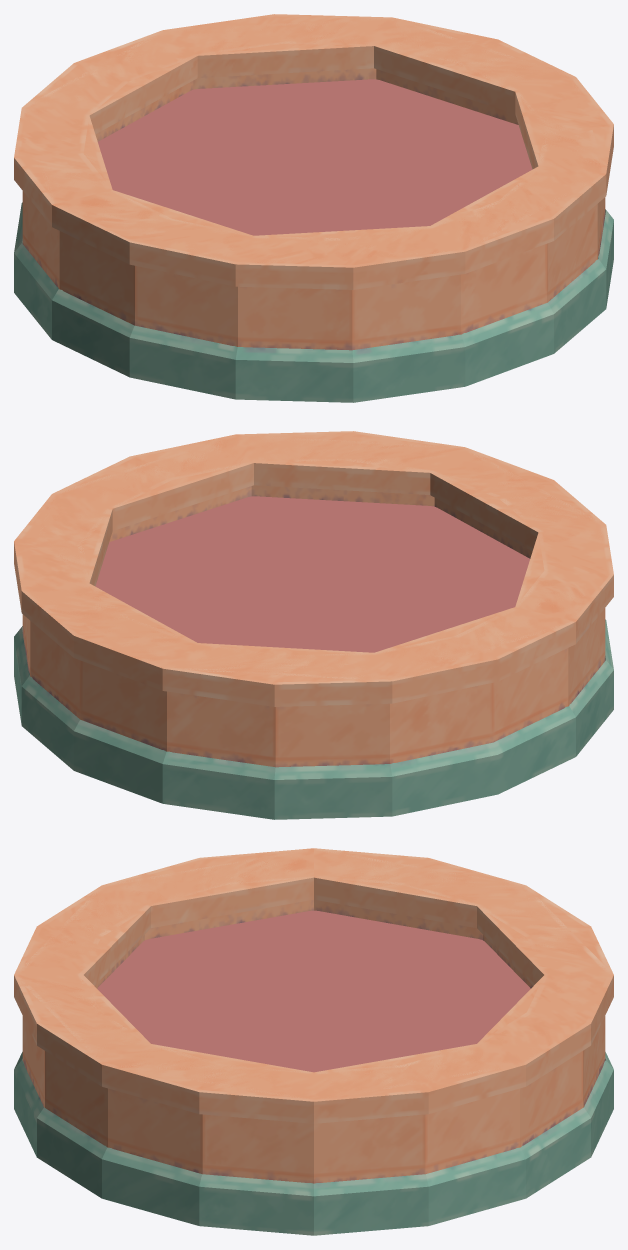
File: vat.bundle.fbx
The picture shows the model from 3 angles, top to bottom: view 1: azimuth 30°, elevation 25°; view 2: azimuth 150°, elevation 25°; view 3: azimuth 270°, elevation 25°; orthographic projection.
Visible parts, largest first — view 1: vat, vat_low, vat_s00, vat_s04, vat_s07, vat_s01, vat_s06, vat_s05; view 2: vat, vat_low, vat_s06, vat_s07, vat_s05, vat_s03, vat_s04, vat_s01; view 3: vat, vat_low, vat_s00, vat_s07, vat_s06, vat_s03, vat_s04, vat_s01, vat_s05.
Boxes of the visible parts, x1=… form: vat: x1=14, y1=14, x2=613, y2=402; vat_low: x1=22, y1=17, x2=605, y2=347; vat_s00: x1=50, y1=51, x2=362, y2=200; vat_s04: x1=135, y1=18, x2=493, y2=126; vat_s07: x1=390, y1=51, x2=576, y2=211; vat_s01: x1=23, y1=92, x2=269, y2=290; vat_s06: x1=232, y1=200, x2=424, y2=256; vat_s05: x1=423, y1=130, x2=603, y2=257; vat: x1=14, y1=431, x2=613, y2=819; vat_low: x1=22, y1=434, x2=605, y2=764; vat_s06: x1=358, y1=460, x2=549, y2=596; vat_s07: x1=47, y1=462, x2=257, y2=589; vat_s05: x1=153, y1=435, x2=487, y2=513; vat_s03: x1=521, y1=495, x2=605, y2=624; vat_s04: x1=23, y1=542, x2=208, y2=752; vat_s01: x1=360, y1=588, x2=557, y2=764; vat: x1=14, y1=848, x2=613, y2=1235; vat_low: x1=15, y1=848, x2=613, y2=1183; vat_s00: x1=244, y1=916, x2=592, y2=1046; vat_s07: x1=179, y1=1017, x2=405, y2=1183; vat_s06: x1=41, y1=913, x2=261, y2=1031; vat_s03: x1=68, y1=848, x2=328, y2=940; vat_s04: x1=395, y1=962, x2=609, y2=1084; vat_s01: x1=243, y1=852, x2=534, y2=973; vat_s05: x1=15, y1=967, x2=189, y2=1070.
Size of the model in its own units: 6.9 by 1.7 by 6.9.
1 material, 1 textured.
